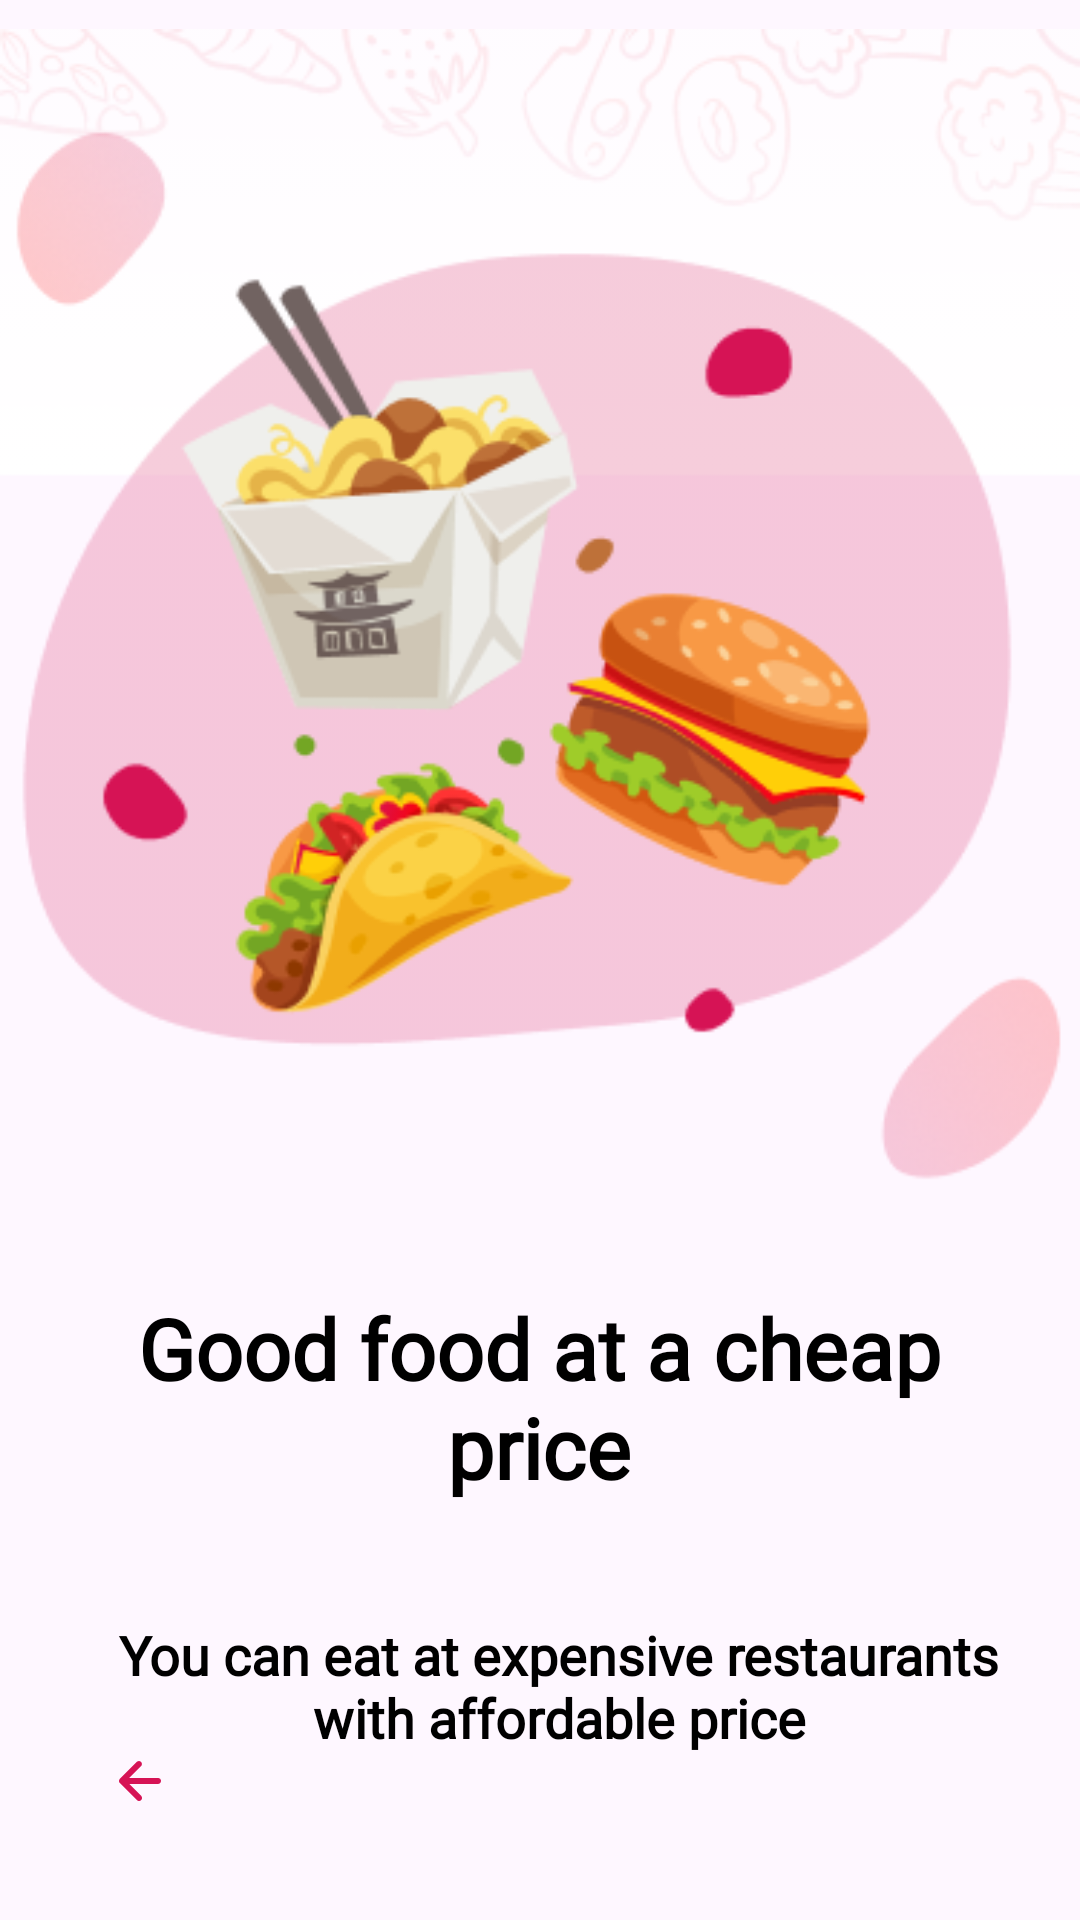

Icon bounding boxes for this 1080w x 1920h phone screenshot, format box(x1, y1, x2, y2):
back arrow: box(119, 1761, 161, 1801)
